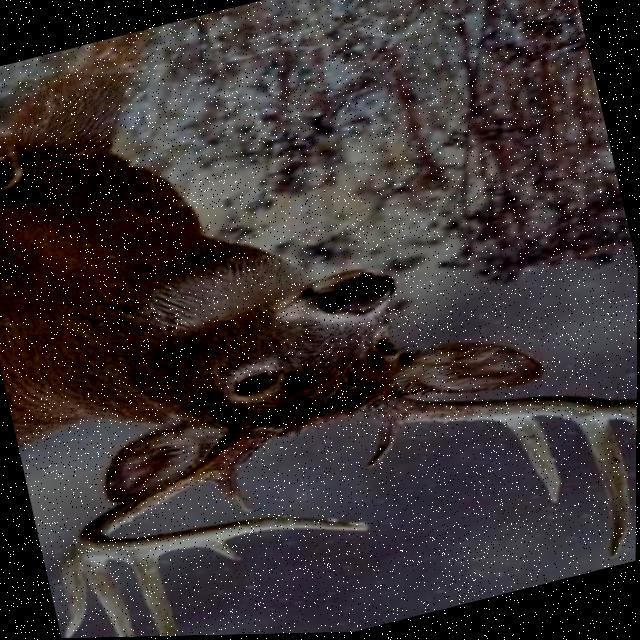E1: (202, 540, 243, 562)
R-F: (78, 426, 369, 550), (351, 389, 638, 425)
R-G1: (207, 468, 254, 514), (365, 423, 398, 471)
R-G2: (499, 417, 563, 505)
R-G3: (572, 421, 630, 562), (83, 556, 137, 638)
R-G4: (124, 554, 184, 637)
